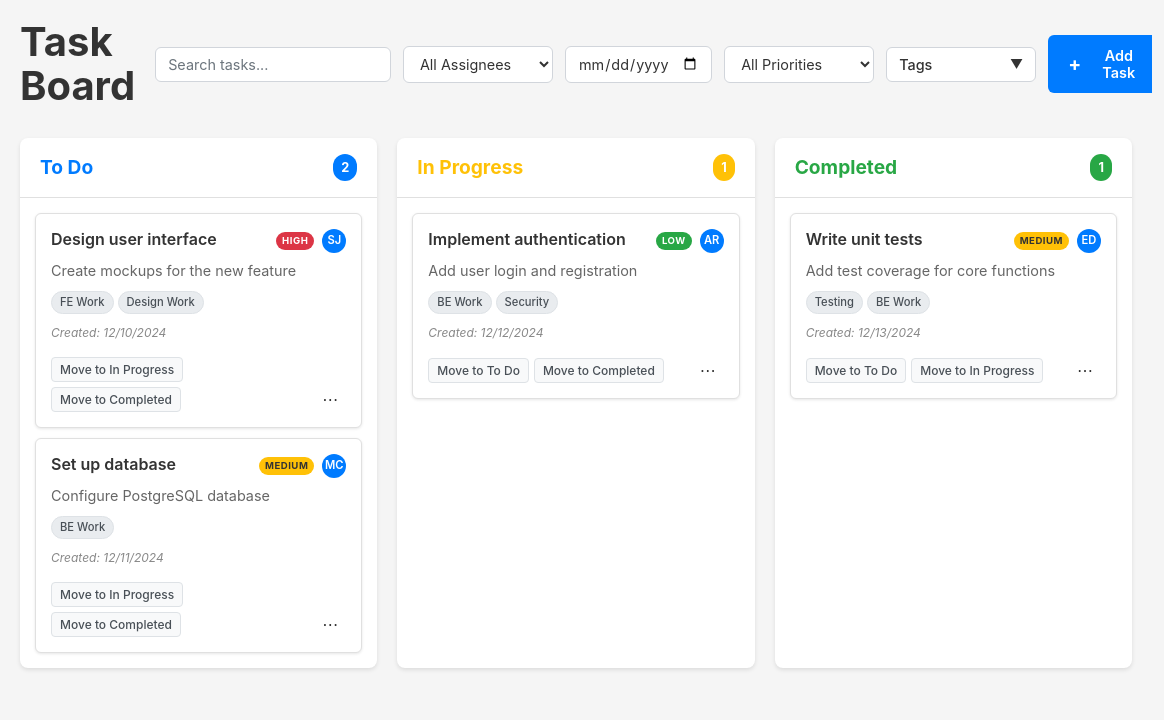
TaskBoard Component › assignee filter shows only tasks for selected assignee
Select "Sarah Johnson" in the 1st dropdown showing "All Assignees" at (478, 64), box x1=403 y1=46 x2=553 y2=82
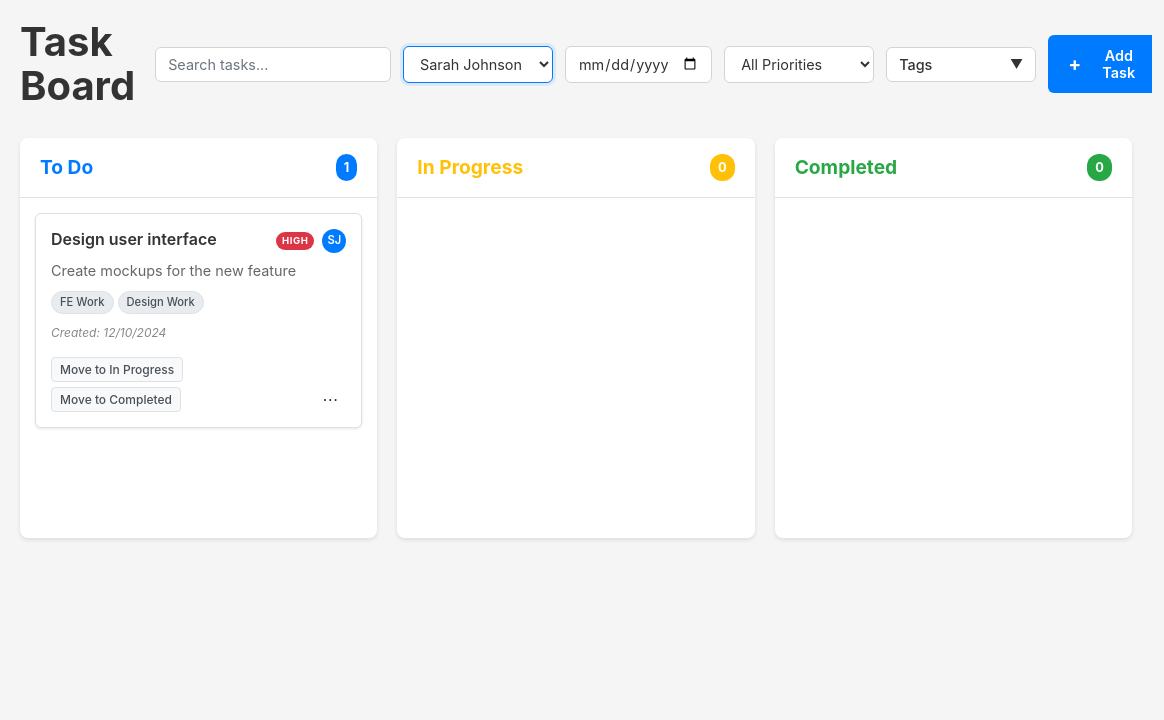
Expected: the heading "Design user interface" is shown, x1=51 y1=229 x2=217 y2=249
Expected: the heading "Set up database" is gone
